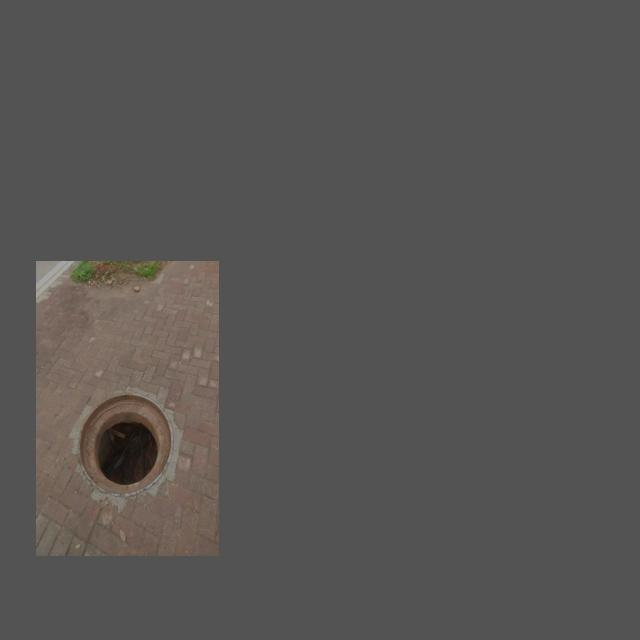lose: (77, 392, 173, 497)
